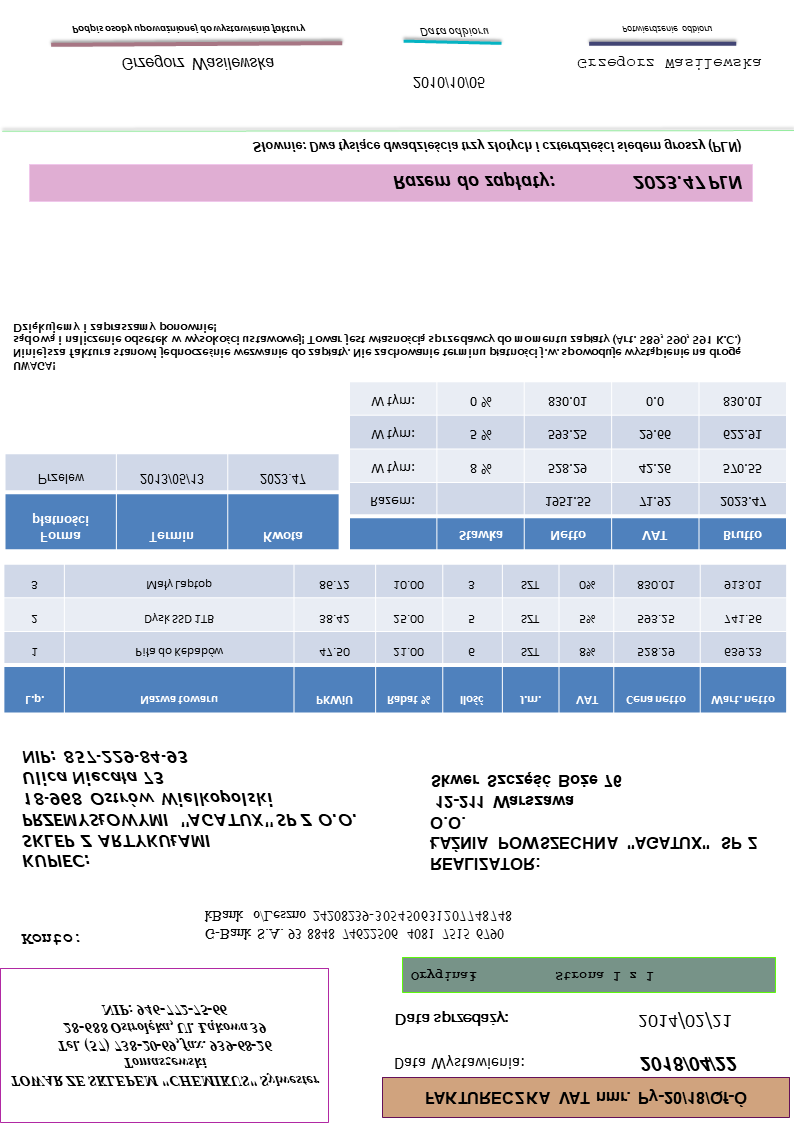Table: (2, 564, 788, 714), (348, 382, 788, 552), (4, 453, 339, 550)
TextBox: (17, 746, 361, 872), (10, 318, 744, 376), (427, 769, 761, 875), (7, 999, 321, 1093), (199, 904, 514, 945), (249, 135, 748, 159), (387, 168, 746, 199), (419, 1089, 748, 1110), (409, 966, 655, 987), (67, 21, 309, 40), (118, 53, 277, 78), (572, 54, 763, 74), (392, 1053, 526, 1074), (392, 1008, 511, 1031), (634, 1051, 739, 1077), (635, 1008, 735, 1033), (618, 20, 716, 39), (408, 72, 487, 94), (17, 930, 81, 950), (417, 26, 492, 42)
